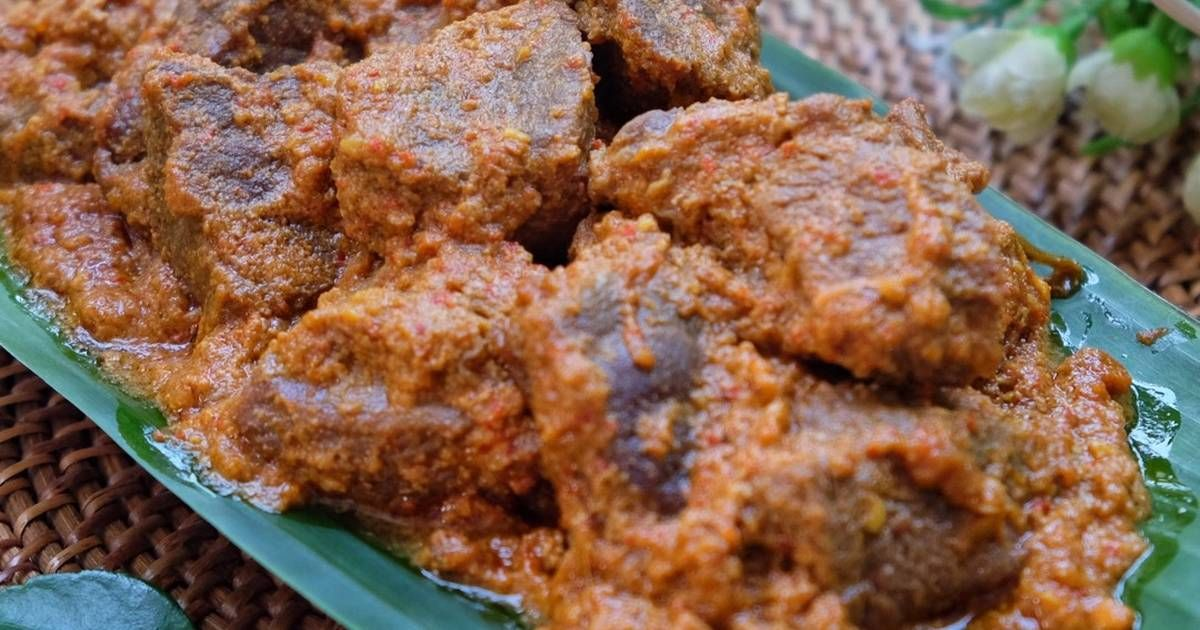rendang: (4, 1, 1153, 627)
